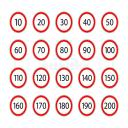speed_limit_100: (100, 37, 120, 62)
speed_limit_110: (8, 65, 28, 90)
speed_limit_120: (31, 65, 52, 91)
speed_limit_20: (32, 8, 52, 34)
speed_limit_30: (55, 9, 74, 36)
speed_limit_40: (77, 9, 97, 35)
speed_limit_50: (100, 10, 121, 35)
speed_limit_60: (7, 36, 29, 62)
speed_limit_70: (31, 37, 52, 63)
speed_limit_80: (54, 38, 74, 62)
speed_limit_90: (77, 36, 98, 62)
